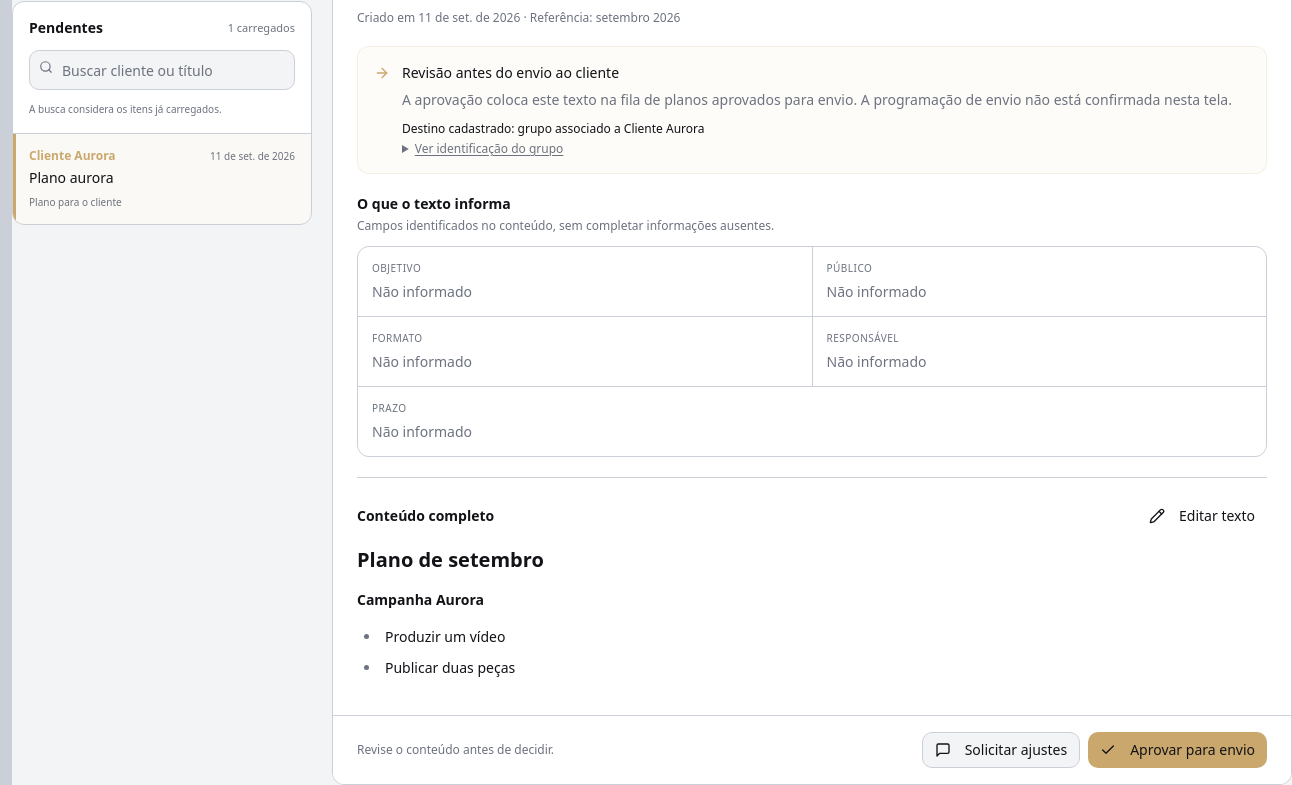
Destino e confirmação da aprovação › não informa sucesso nem remove o conteúdo quando a gravação tem error
(page scrolled)
Click the button "Aprovar para envio" at [1178, 750], box top-left (1088, 732), bottom-right (1267, 768)
(page scrolled)
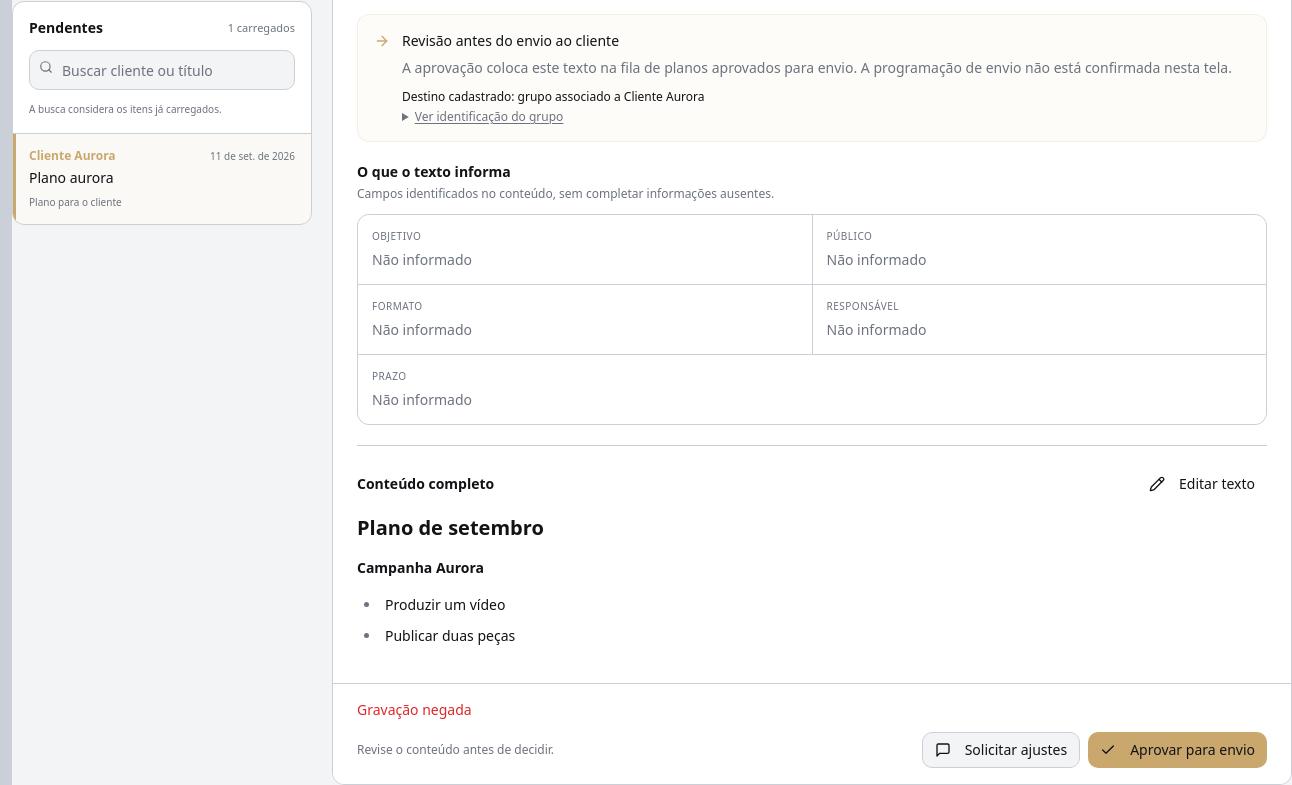
Now the message "Gravação negada" is shown, box top-left (357, 700), bottom-right (472, 719)
